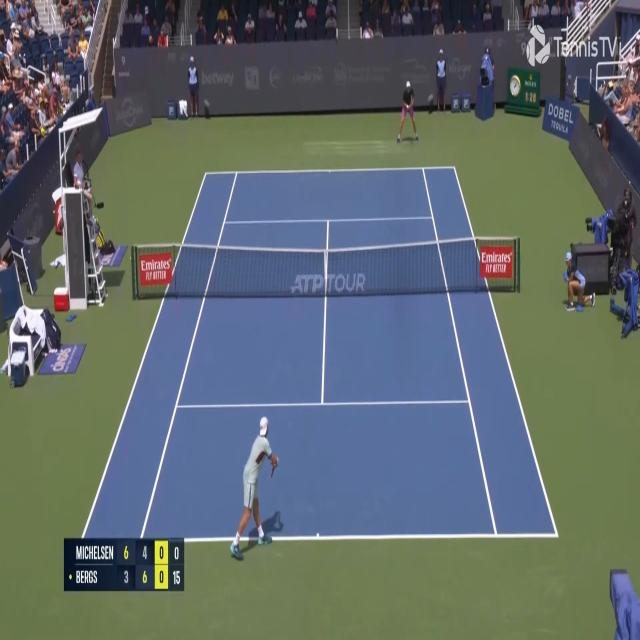tennis-player: (228, 412, 284, 565), (396, 78, 419, 144)
